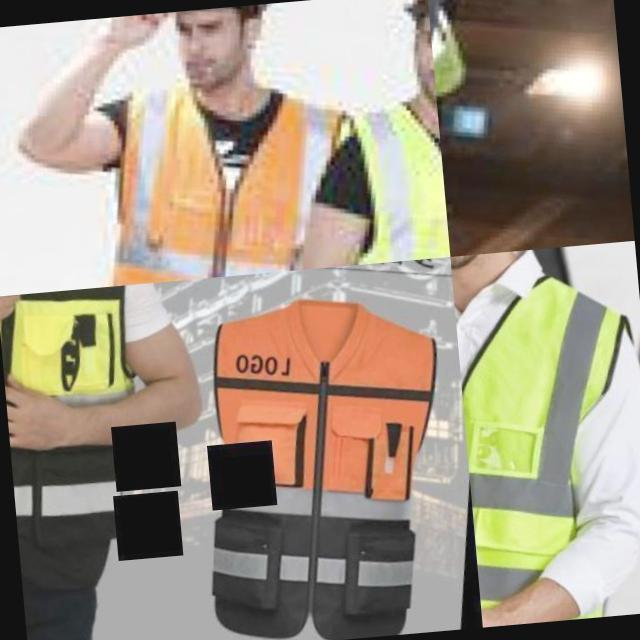vest: (187, 282, 463, 562), (451, 253, 640, 627), (88, 90, 347, 287), (0, 283, 159, 442), (333, 107, 450, 266)
